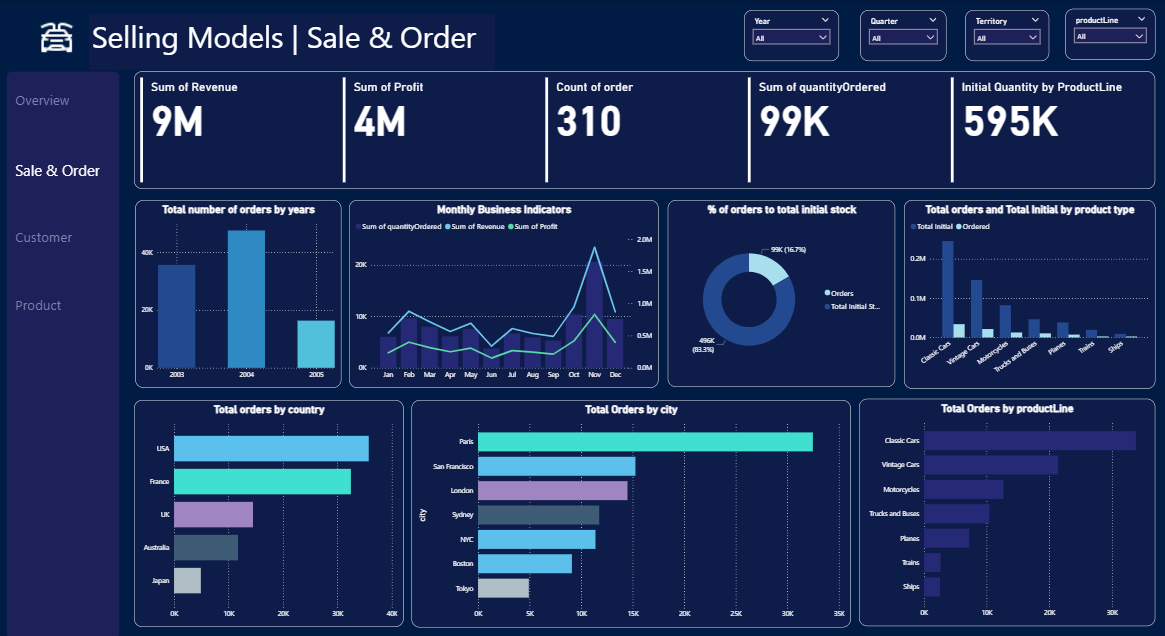

What the dashboard file says about the page in this screenshot:
{"tool":"powerbi","page":{"name":"Sale & Order","canvas":[2100,1150],"ordinal":1},"visuals":[{"type":"lineClusteredColumnComboChart","title":"Monthly Business Indicators","fields":{"Category":["Calendar Table.ShortMonth"],"Y2":["Sum(orderdetails (2).Revenue)","Sum(orderdetails (2).Profit)"],"Y":["Sum(orderdetails (2).quantityOrdered)"]},"box":[630.9,361.2,557.5,338.8],"z":0},{"type":"slicer","fields":{"Values":["offices.territory"]},"box":[1740.3,18,150.8,92.3],"z":1000},{"type":"clusteredBarChart","title":"Total Orders by productLine","fields":{"Category":["productlines.productLine"],"Y":["Sum(orderdetails (2).quantityOrdered)"]},"box":[1548.9,718.2,533.6,409.7],"z":2000},{"type":"clusteredColumnChart","title":"Total orders and Total Initial by product type","fields":{"Y":["products.Initial Quantity by ProductLine","Sum(orderdetails (2).quantityOrdered)"],"Category":["products.productLine"]},"box":[1629.9,360.2,452.5,339.9],"z":3000},{"type":"clusteredBarChart","title":"Total Orders by city","fields":{"Category":["offices.city"],"Y":["Sum(orderdetails (2).quantityOrdered)"]},"box":[742.4,719.9,791.2,409.5],"z":4000},{"type":"clusteredBarChart","title":"Total orders by country","fields":{"Category":["offices.country"],"Y":["Sum(orderdetails (2).quantityOrdered)"]},"box":[243.9,720.8,485.7,408.8],"z":5000},{"type":"donutChart","title":"% of orders to total initial stock","fields":{"Y":["Sum(orderdetails (2).quantityOrdered)","Sum(products.quantityInStock)"]},"box":[1203.3,361.2,409.5,336.6],"z":6000},{"type":"slicer","fields":{"Values":["Calendar Table.Year"]},"box":[1341.8,18,171.1,92.3],"z":7000},{"type":"slicer","fields":{"Values":["Calendar Table.Quarter"]},"box":[1551.1,18,155.3,92.3],"z":8000},{"type":"clusteredColumnChart","title":"Total number of orders by years","fields":{"Category":["Calendar Table.Year"],"Y":["Sum(orderdetails (2).quantityOrdered)"]},"box":[244.9,361.2,370.9,338.8],"z":9000},{"type":"slicer","fields":{"Values":["productlines.productLine"]},"box":[1920.4,15.8,162.1,92.3],"z":10000},{"type":"textbox","box":[163,25.7,731.1,100.8],"z":11000},{"type":"image","box":[37.4,26.4,131.9,83.5],"z":12000},{"type":"group","id":"g1","title":"Group 1","box":[13.2,127.5,261.5,1021.9],"z":13000},{"type":"shape","box":[13.2,127.5,203.8,1021.9],"z":14000,"group":"g1"},{"type":"cardVisual","fields":{"Data":["Sum(orderdetails (2).Revenue)","Sum(orderdetails (2).Profit)","CountNonNull(orders.orderNumber)","Sum(orderdetails (2).quantityOrdered)","products.Initial Quantity by ProductLine"]},"box":[243.1,128.3,1839.3,211.6],"z":14000},{"type":"pageNavigator","box":[28.6,164.6,246.1,484.8],"z":15000,"group":"g1"}]}

Visuals, with their boxes in screenshot pixels (x1, y1, x2, y2), scaled from the page's 2100x1150 canvas onto the 1165x636 screenshot:
"Monthly Business Indicators" lineClusteredColumnComboChart: (x1=350, y1=200, x2=659, y2=387)
slicer - offices.territory: (x1=965, y1=10, x2=1049, y2=61)
"Total Orders by productLine" clusteredBarChart: (x1=859, y1=397, x2=1155, y2=624)
"Total orders and Total Initial by product type" clusteredColumnChart: (x1=904, y1=199, x2=1155, y2=387)
"Total Orders by city" clusteredBarChart: (x1=412, y1=398, x2=851, y2=625)
"Total orders by country" clusteredBarChart: (x1=135, y1=399, x2=405, y2=625)
"% of orders to total initial stock" donutChart: (x1=668, y1=200, x2=895, y2=386)
slicer - Calendar Table.Year: (x1=744, y1=10, x2=839, y2=61)
slicer - Calendar Table.Quarter: (x1=860, y1=10, x2=947, y2=61)
"Total number of orders by years" clusteredColumnChart: (x1=136, y1=200, x2=342, y2=387)
slicer - productlines.productLine: (x1=1065, y1=9, x2=1155, y2=60)
textbox: (x1=90, y1=14, x2=496, y2=70)
image: (x1=21, y1=15, x2=94, y2=61)
"Group 1" group: (x1=7, y1=71, x2=152, y2=635)
shape: (x1=7, y1=71, x2=120, y2=635)
cardVisual - Sum(orderdetails (2).Revenue) x Sum(orderdetails (2).Profit): (x1=135, y1=71, x2=1155, y2=188)
pageNavigator: (x1=16, y1=91, x2=152, y2=359)
